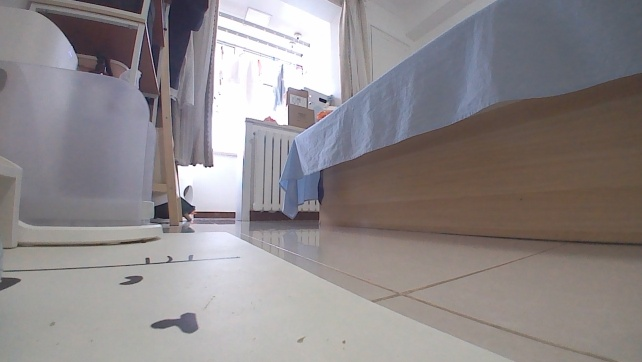bed1: (275, 0, 641, 246)
blanket: (0, 228, 526, 361)
